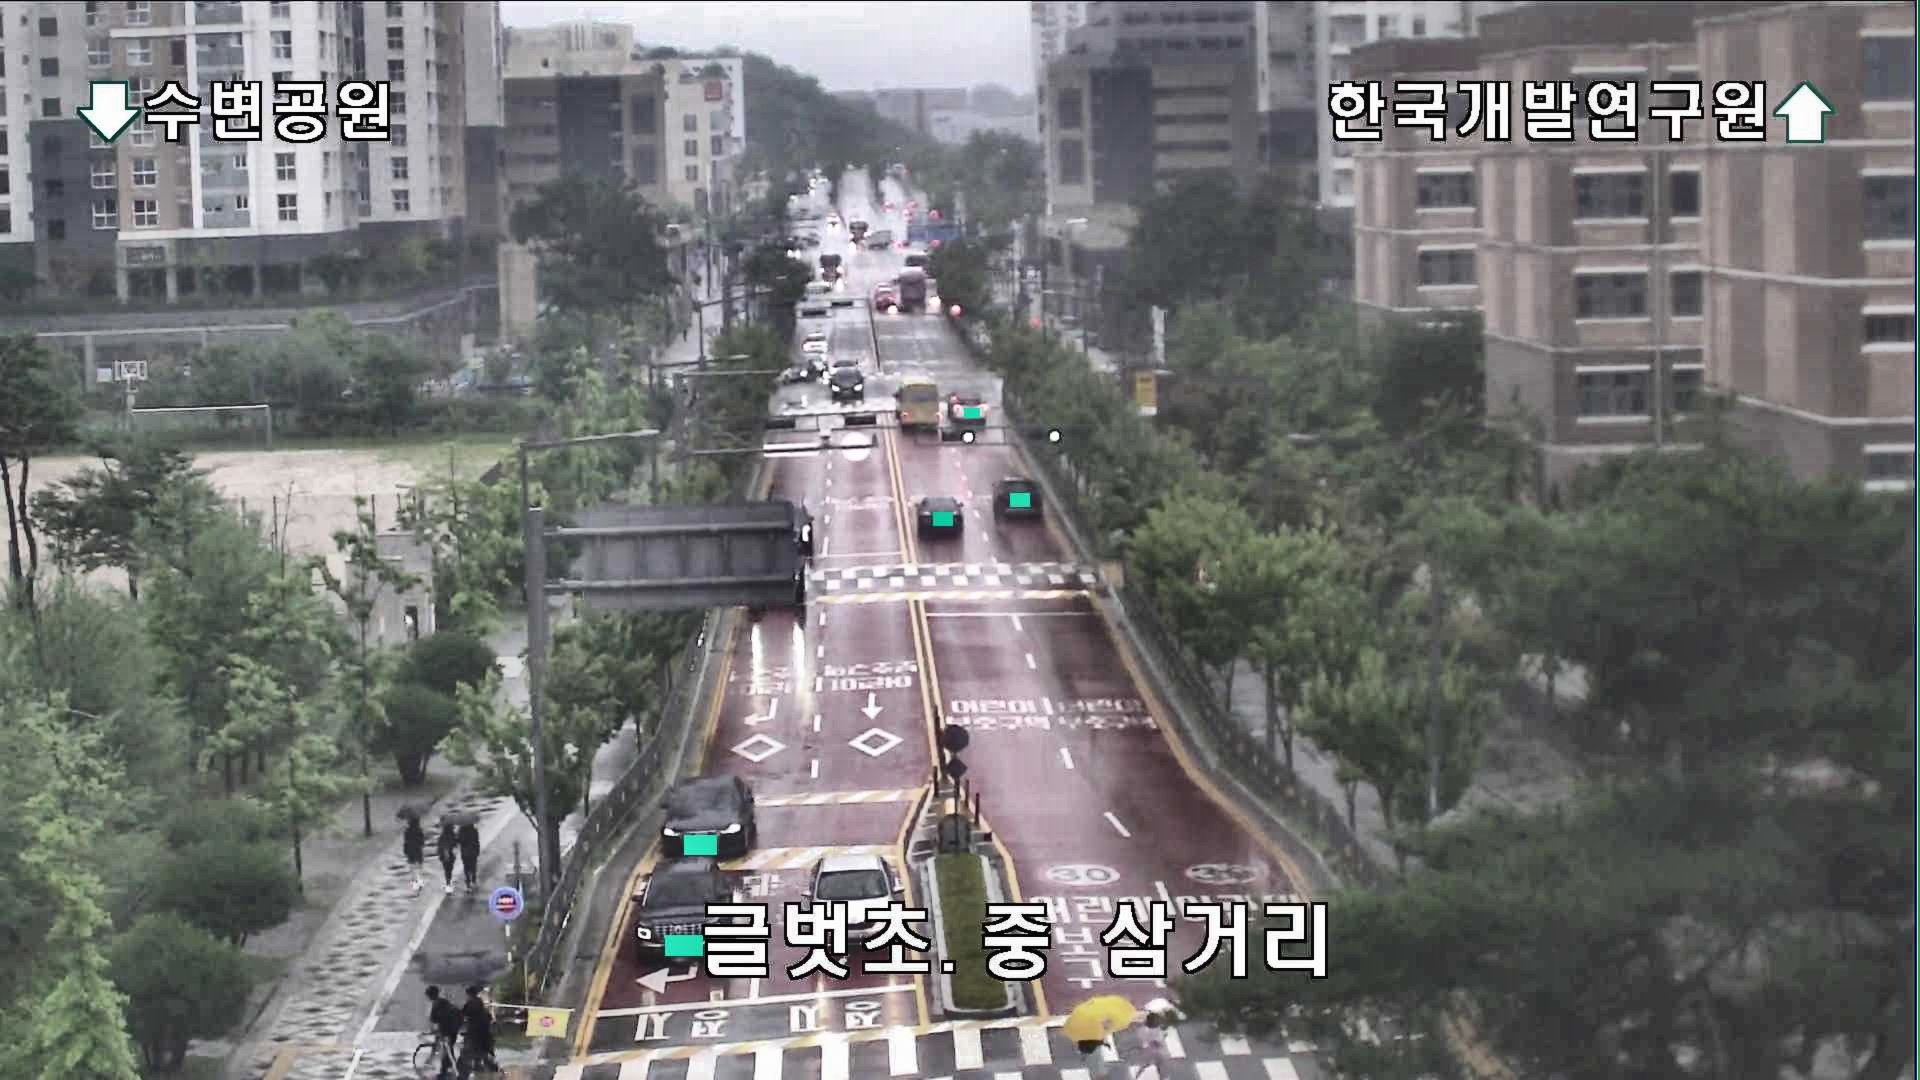um_crosswalk: (1064, 997, 1139, 1080), (1135, 998, 1178, 1080)
um_sidewalk: (456, 953, 504, 1077), (415, 960, 456, 1076), (392, 804, 427, 894), (434, 810, 455, 889), (459, 811, 480, 889)
